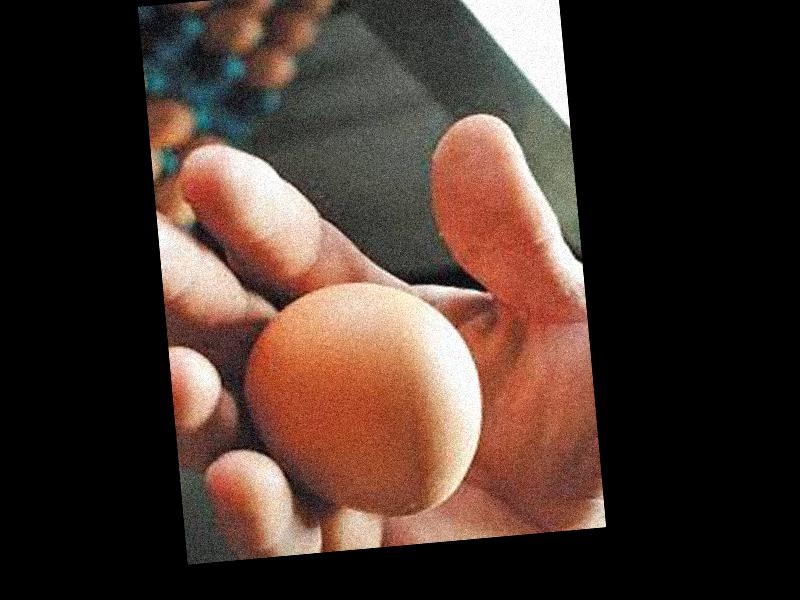Eggs: (232, 271, 490, 533)
